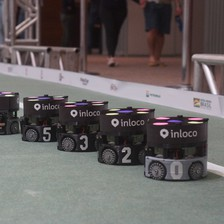robot: (141, 112, 209, 182), (93, 104, 145, 168), (54, 97, 99, 154), (17, 92, 59, 144), (1, 87, 21, 136)
